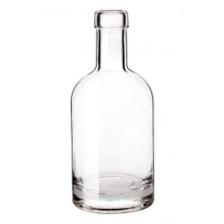bottle: (62, 5, 162, 214)
